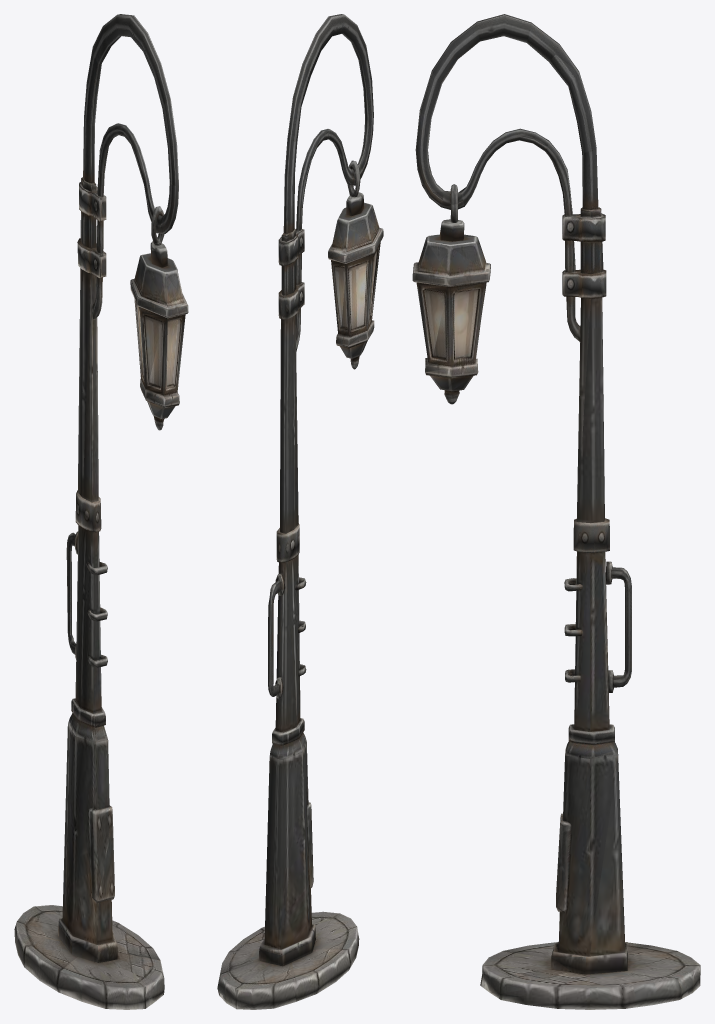
The model's file is lamp.glb.
3 views of the same model, side by side, from view 1: azimuth 30°, elevation 25°; view 2: azimuth 150°, elevation 25°; view 3: azimuth 270°, elevation 25° (orthographic). The views are drawn at different scales.
Visible parts, largest first — view 1: lamp; view 2: lamp; view 3: lamp.
Part boxes in pixels (<box>): lamp: <box>14,14,188,1009</box>; lamp: <box>217,14,383,1009</box>; lamp: <box>412,14,700,1009</box>.
Size of the model in its own units: 0.3233 by 3.01 by 0.81.
1 material, 1 textured.
